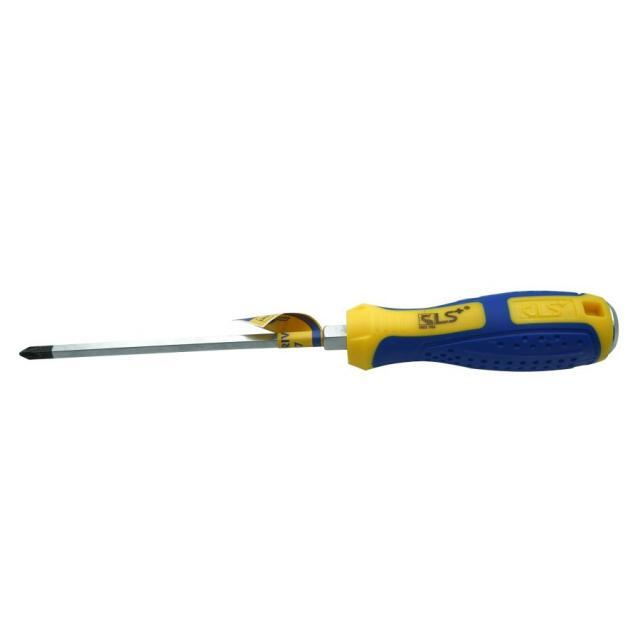screwdriver: (18, 284, 621, 382)
